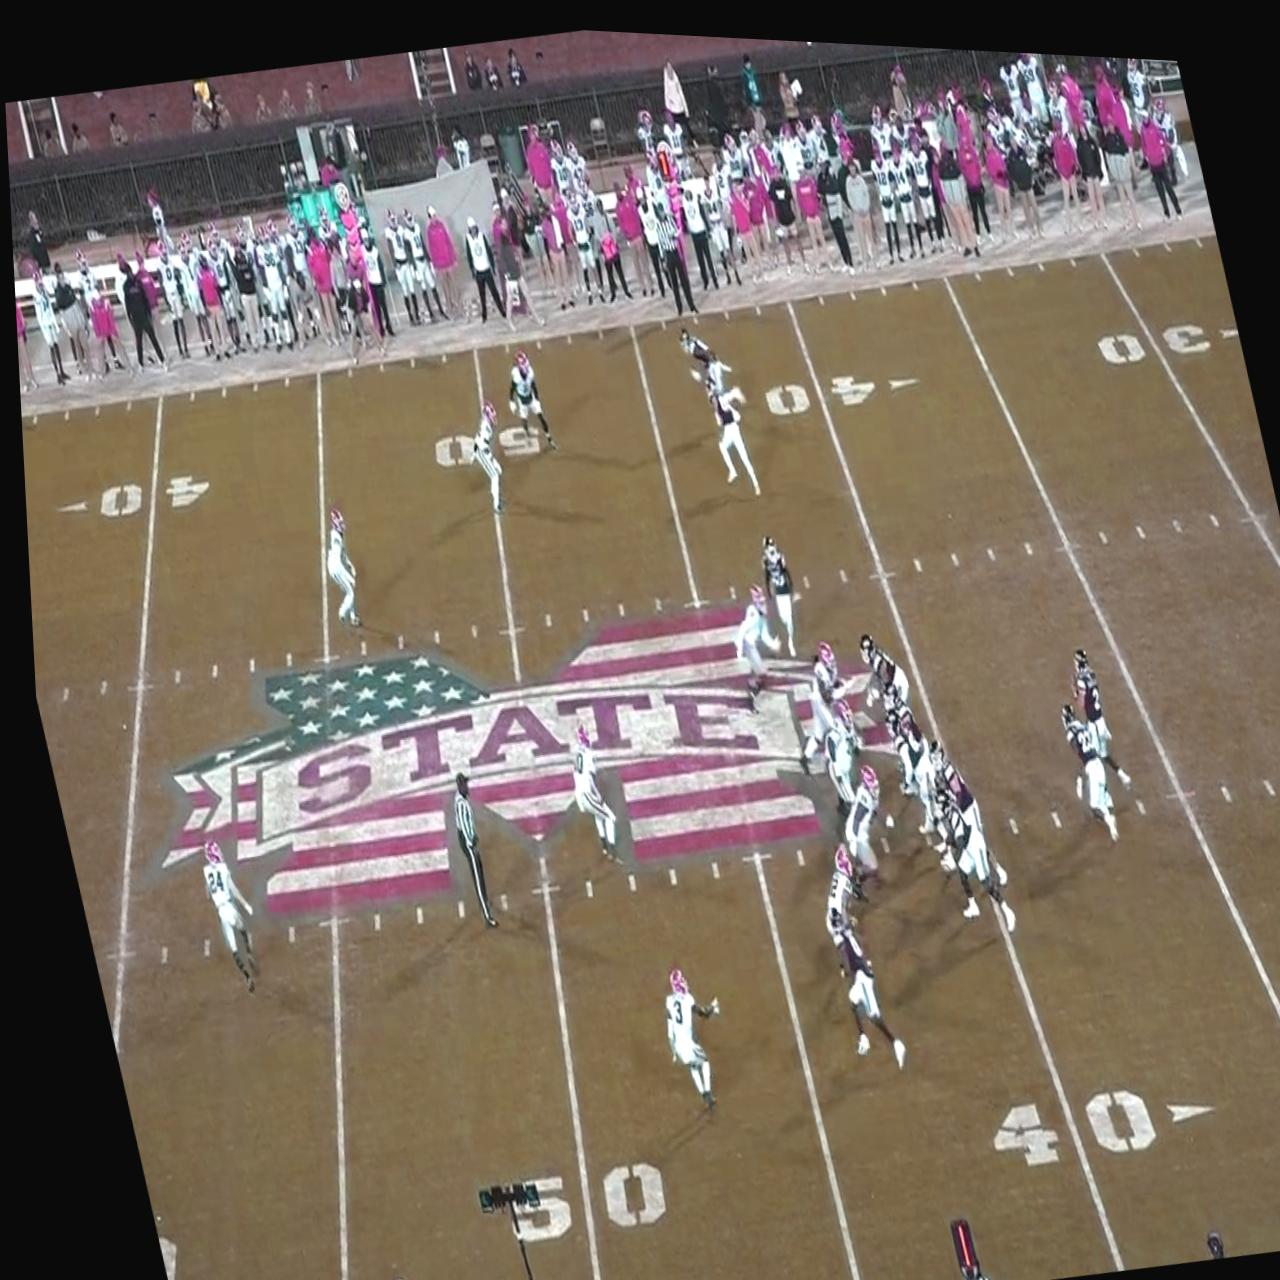30R: (1091, 298, 1239, 358)
40L: (45, 465, 210, 529)
40R: (974, 1056, 1213, 1167), (760, 350, 920, 416)
50: (491, 1149, 660, 1244), (428, 416, 540, 471)
